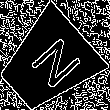N_SW: (16, 31, 80, 95)
